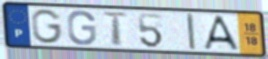5: (136, 12, 165, 49)
A: (202, 14, 243, 52)
G: (30, 8, 65, 45), (66, 9, 98, 47)
I: (185, 12, 197, 52)
T: (101, 11, 130, 48)
